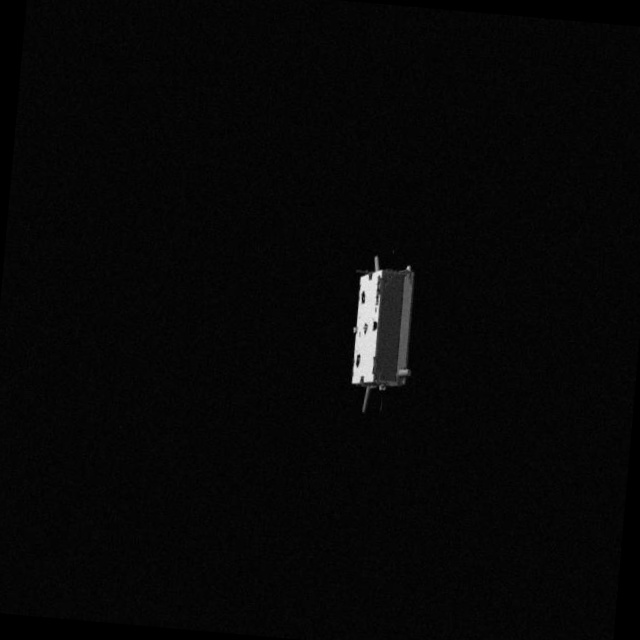medium_debris: (334, 250, 430, 423)
